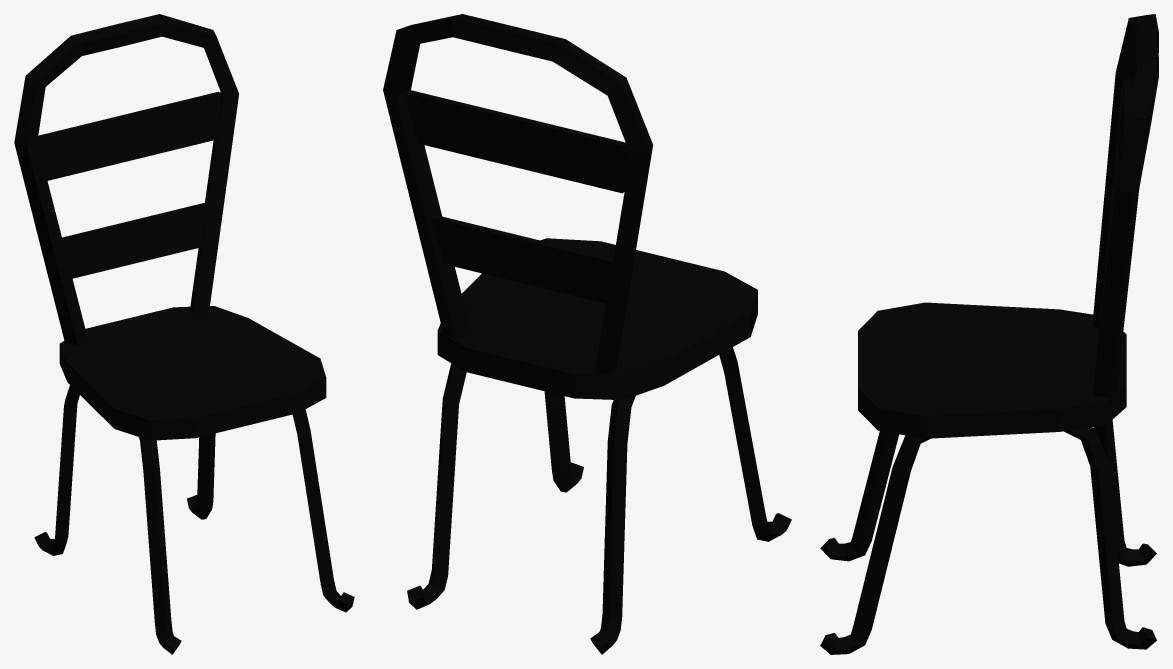
The model's file is mdl_poland_chair.gltf.
3 views of the same model, side by side, from view 1: azimuth 30°, elevation 25°; view 2: azimuth 150°, elevation 25°; view 3: azimuth 270°, elevation 25° (orthographic). The views are drawn at different scales.
Parts seen in each view (by area): view 1: Cube.054, Cube.055, Cube.056, Cube.057, Cube.059; view 2: Cube.054, Cube.055, Cube.056, Cube.057, Cube.059; view 3: Cube.054, Cube.056, Cube.055, Cube.057.
Boxes of the visible parts, x1,y1,x2,y2 form: Cube.054: [59, 306, 326, 440]; Cube.055: [14, 14, 238, 345]; Cube.056: [34, 385, 354, 654]; Cube.057: [37, 91, 221, 180]; Cube.059: [62, 202, 206, 278]; Cube.054: [437, 238, 757, 400]; Cube.055: [383, 14, 652, 375]; Cube.056: [407, 347, 791, 654]; Cube.057: [406, 90, 630, 193]; Cube.059: [431, 215, 613, 303]; Cube.054: [858, 302, 1126, 438]; Cube.056: [820, 420, 1156, 654]; Cube.055: [1092, 14, 1158, 398]; Cube.057: [1119, 79, 1131, 168].
Size of the model in its own units: 0.4302 by 0.9327 by 0.5027.
1 material, 1 textured.
